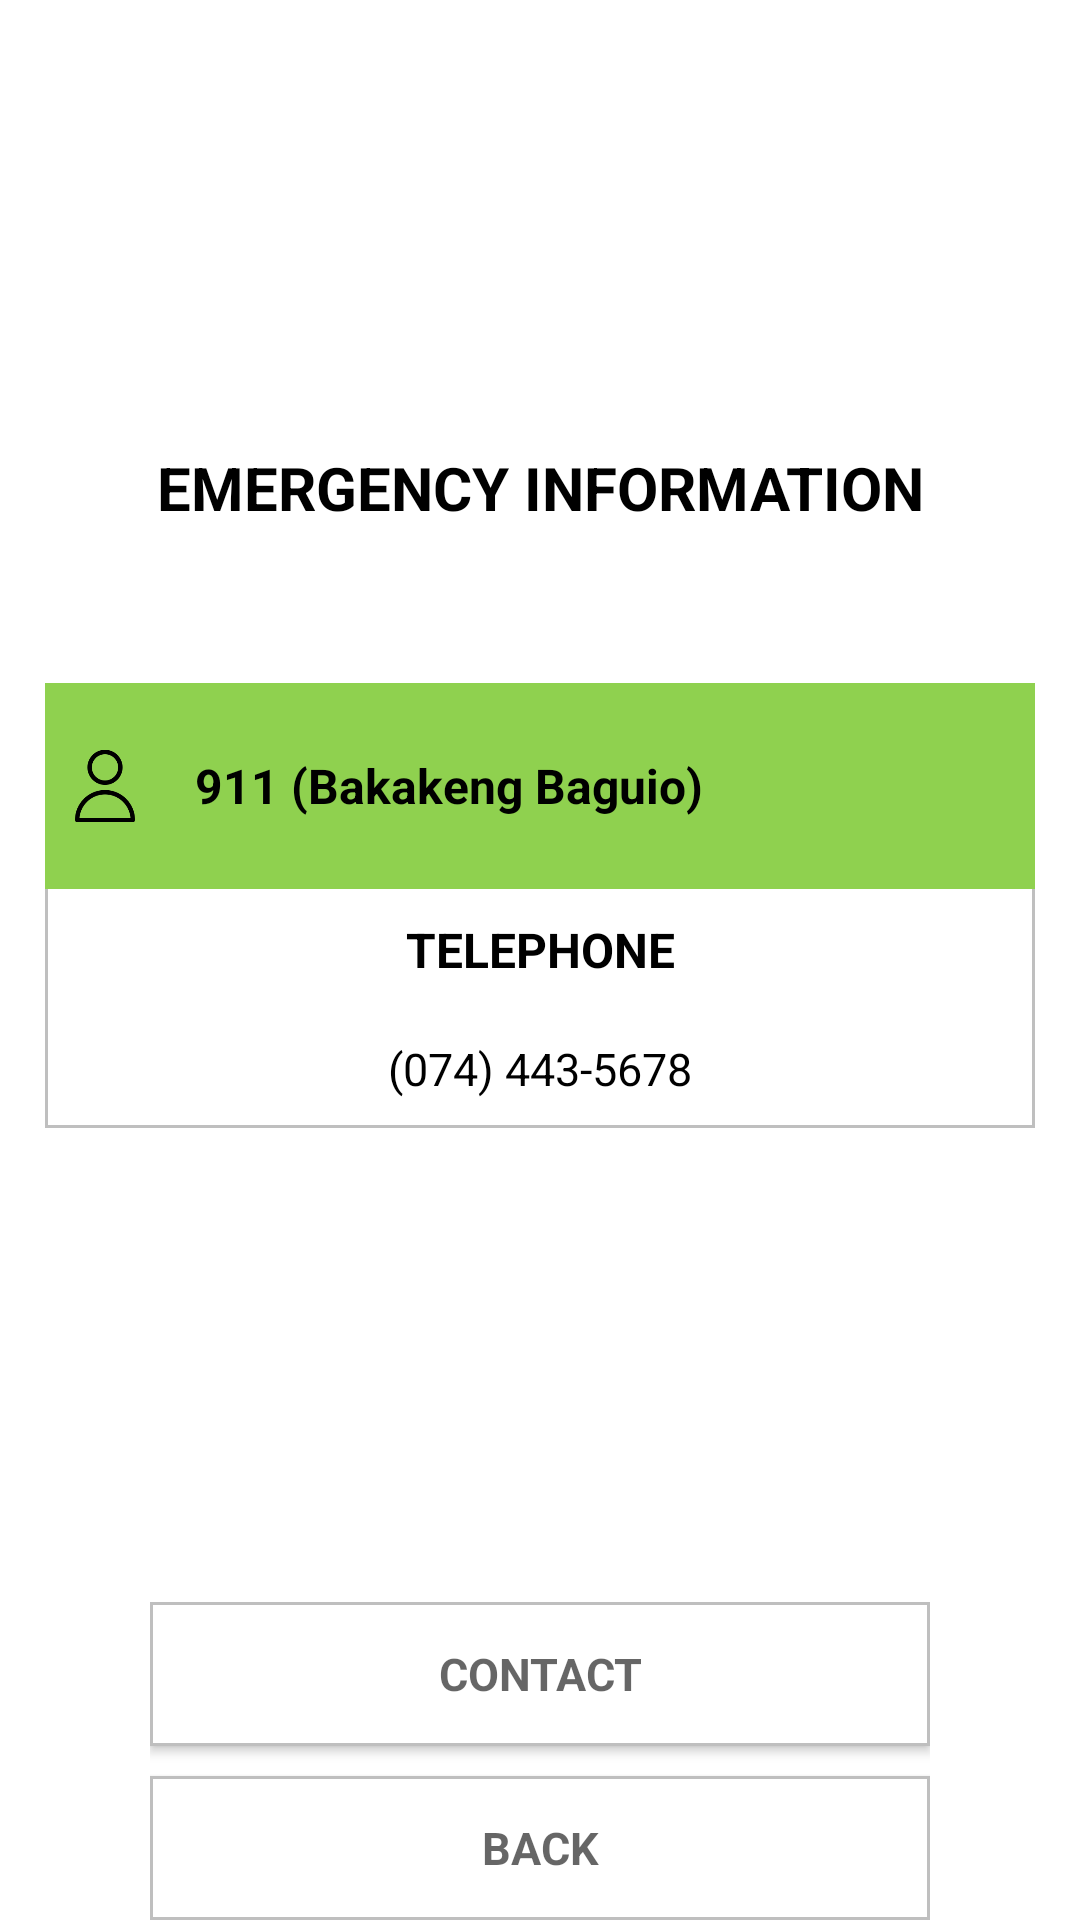

Icon bounding boxes for this 1080×1920 phone screenshot, format [x1,y1,x2,y2]:
account: [75,750,135,822]
